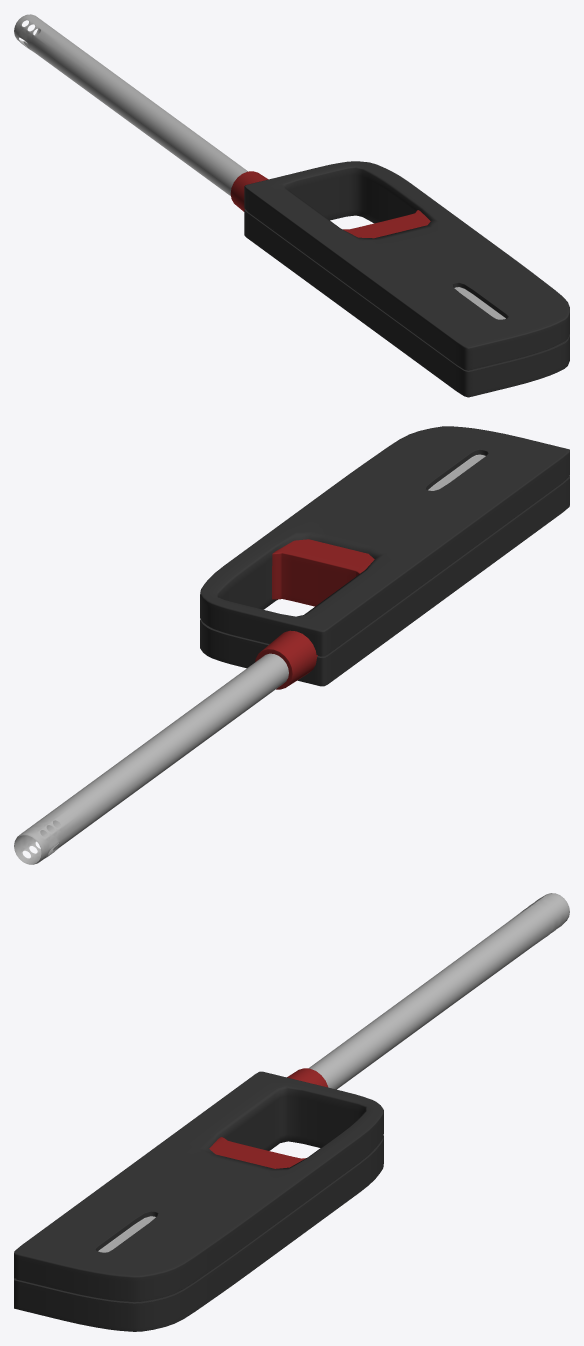
Rendered from torch.fbx.
3 views of the same model, one above another, from view 1: azimuth 30°, elevation 25°; view 2: azimuth 150°, elevation 25°; view 3: azimuth 330°, elevation 25° (orthographic). The views are drawn at different scales.
Visible parts, largest first — view 1: pCube1, pCylinder2, pCube2, pCylinder1; view 2: pCube1, pCylinder2, pCube2, pCylinder1; view 3: pCube1, pCylinder2, pCube2.
Part boxes in pixels (bbox=[...]): pCube1: bbox=[244, 161, 569, 397]; pCylinder2: bbox=[14, 14, 247, 195]; pCube2: bbox=[343, 210, 430, 238]; pCylinder1: bbox=[230, 171, 268, 211]; pCube1: bbox=[200, 426, 569, 686]; pCylinder2: bbox=[14, 653, 288, 864]; pCube2: bbox=[272, 539, 374, 606]; pCylinder1: bbox=[255, 630, 317, 689]; pCube1: bbox=[14, 1071, 383, 1331]; pCylinder2: bbox=[308, 893, 569, 1089]; pCube2: bbox=[209, 1137, 305, 1168].
Bounding box in the file's own units: 3.98 × 1.48 × 24.91.
